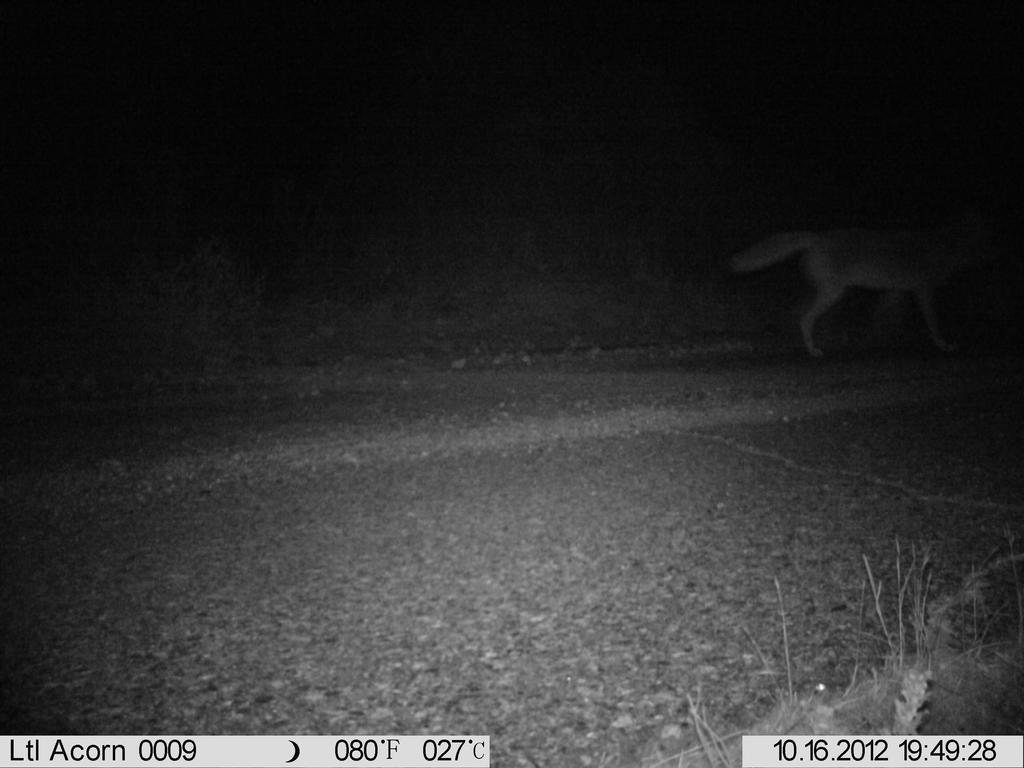coyote: (716, 200, 1017, 381)
